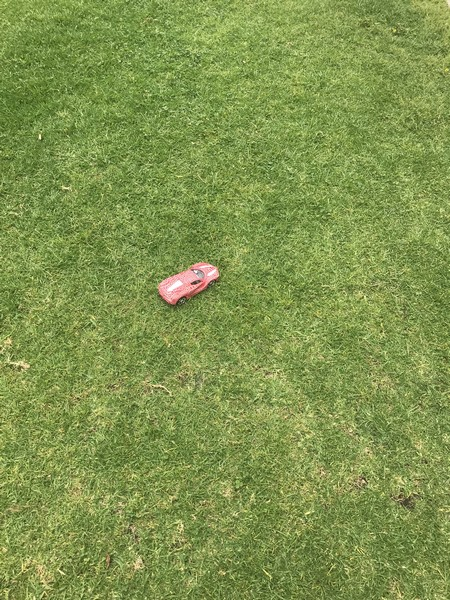RC: (158, 259, 221, 308)
